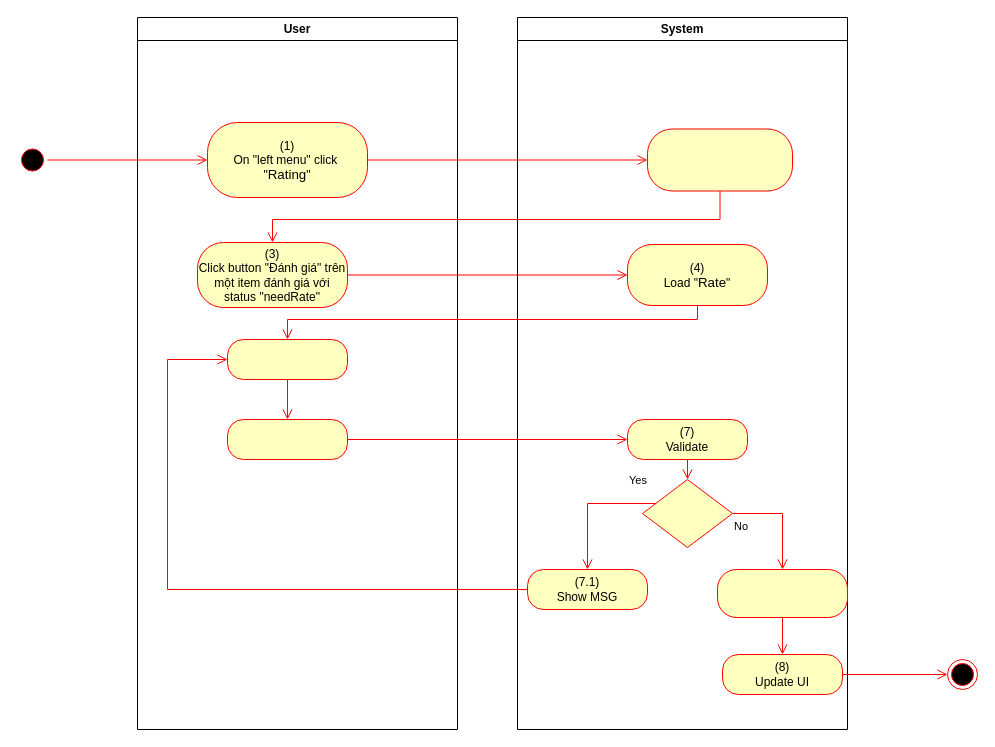
The diagram is 995 pixels wide and 747 high, and some of its shapes have lost their labels. The shapes that lost their labels are listed below. From the top down, each one's centre as x and y in pixels, then its label:
(719,159): (2) Load " List Rate " Screen
(287,359): (5) Giving input
(287,439): (6) Click "Lưu"
(782,593): (7.2) Push new rating to DB
